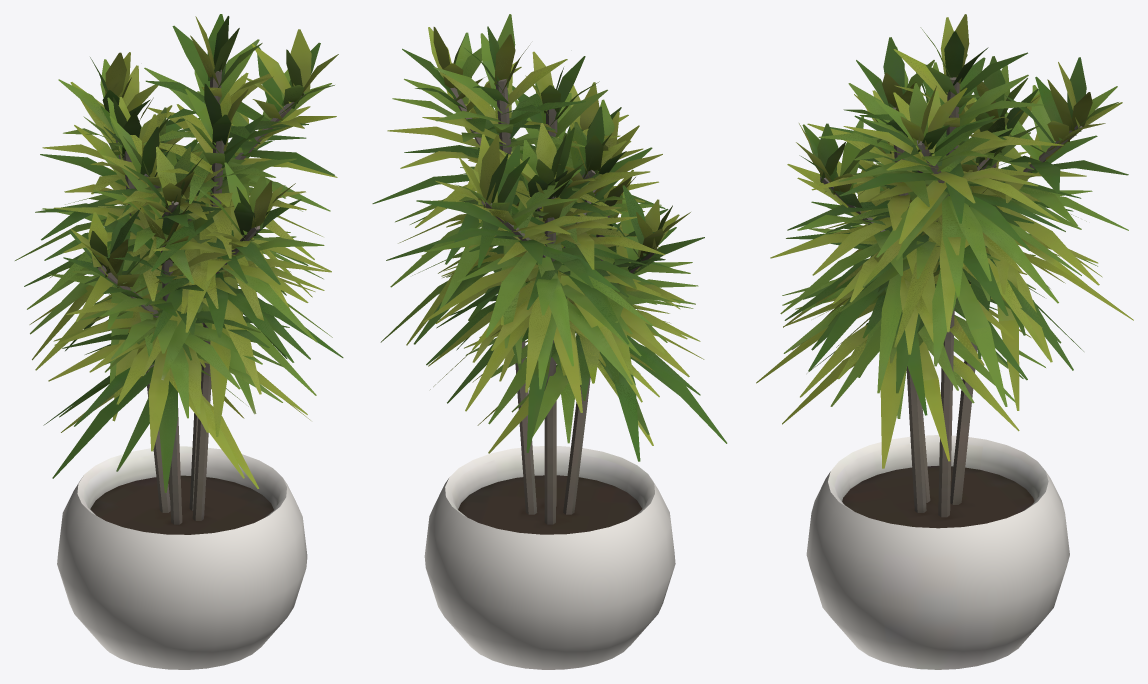
Rendered from dracaena_pot.glb.
3 renders of one model, left to right at view 1: azimuth 30°, elevation 25°; view 2: azimuth 150°, elevation 25°; view 3: azimuth 270°, elevation 25°, orthographic. The views are drawn at different scales.
Parts seen in each view (by area): view 1: dracaena_pot; view 2: dracaena_pot; view 3: dracaena_pot.
Boxes of the visible parts, box(x1,y1,x2,y2) form: dracaena_pot: box(15, 14, 343, 669); dracaena_pot: box(372, 14, 727, 669); dracaena_pot: box(756, 14, 1133, 669).
Size of the model in its own units: 1.11 by 2.17 by 1.15.
1 material, 1 textured.
